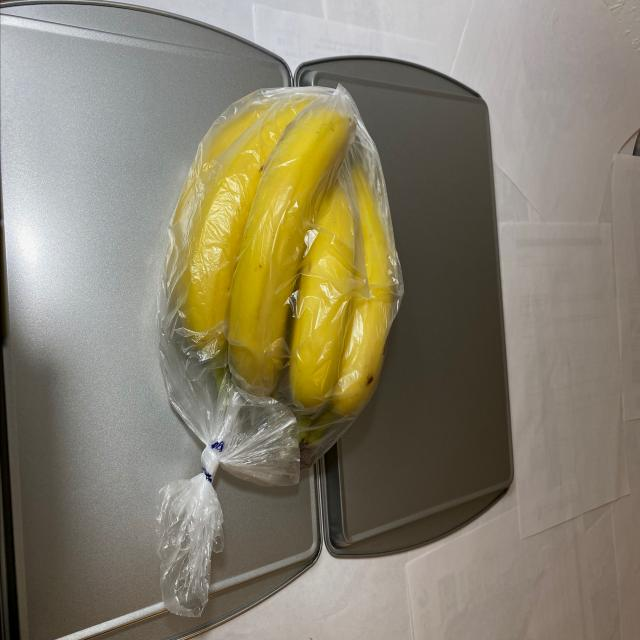banana: (158, 80, 404, 488)
